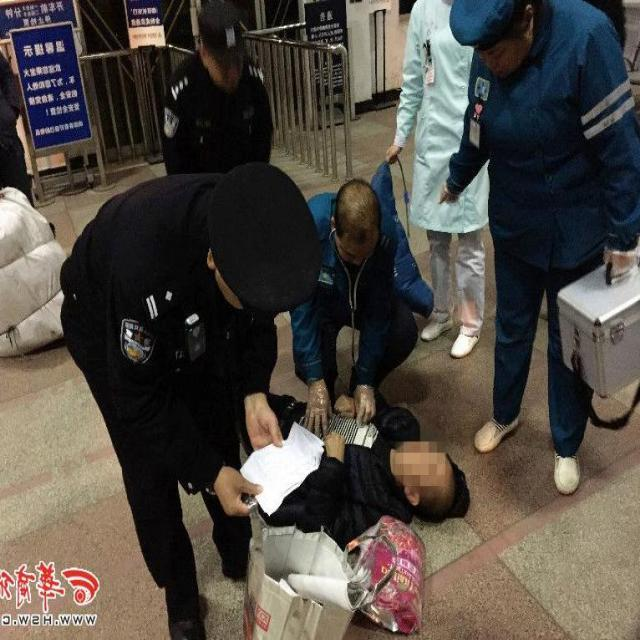fall: (283, 398, 447, 514)
